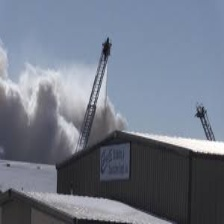smoke: (10, 80, 67, 166)
